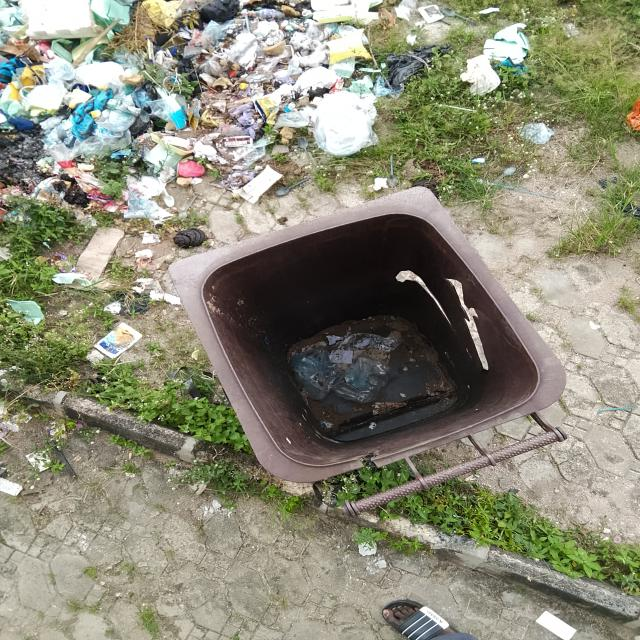empty: (176, 187, 552, 477)
